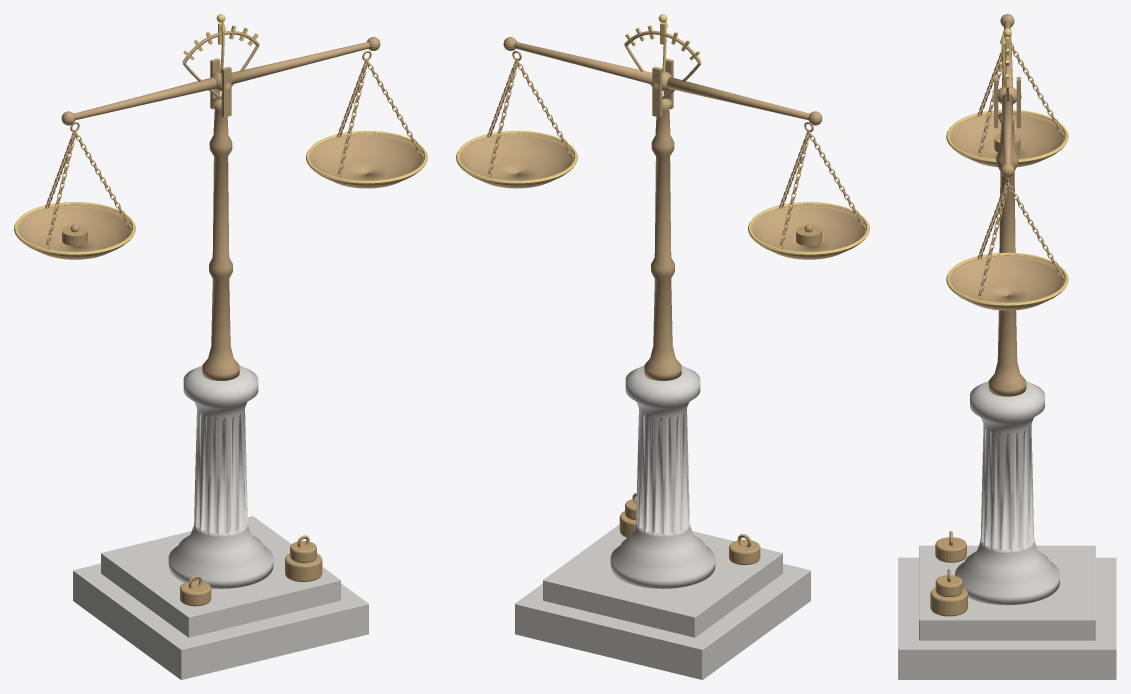
The model's file is obj_kit_scales.glb.
3 renders of one model, left to right at view 1: azimuth 30°, elevation 25°; view 2: azimuth 150°, elevation 25°; view 3: azimuth 270°, elevation 25°, orthographic.
Parts seen in each view (by area): view 1: pedestal, Cube, Cube.001, column, pan.001, pan, beamL, beamR, Torus.072, Torus.002, Cylinder.004, Cylinder.006; view 2: pedestal, Cube, Cube.001, column, pan.001, pan, beamL, beamR, Torus.072, Torus.002, Cylinder.006; view 3: pedestal, Cube, Cube.001, pan.001, column, pan, Torus.072, Torus.002, Cylinder.004, Cylinder.006, beamR, Cylinder.005 (+3 smaller).
Part boxes in pixels (box(x1,y1,x2,y2)): pedestal: box(168, 365, 273, 588); Cube: box(73, 563, 368, 679); Cube.001: box(101, 516, 340, 637); column: box(202, 98, 239, 380); pan.001: box(309, 133, 423, 188); pan: box(17, 205, 131, 259); beamL: box(74, 77, 216, 120); beamR: box(231, 42, 369, 84); Torus.072: box(306, 130, 427, 184); Torus.002: box(14, 202, 135, 255); Cylinder.004: box(285, 553, 322, 581); Cylinder.006: box(180, 581, 211, 606); pedestal: box(610, 365, 715, 588); Cube: box(515, 563, 810, 679); Cube.001: box(543, 524, 782, 637); column: box(644, 98, 681, 380); pan.001: box(459, 133, 574, 188); pan: box(751, 205, 866, 259); beamL: box(667, 77, 809, 120); beamR: box(514, 42, 652, 84); Torus.072: box(456, 130, 577, 184); Torus.002: box(748, 202, 869, 255); Cylinder.006: box(729, 539, 760, 564); pedestal: box(955, 381, 1059, 605); Cube: box(898, 557, 1116, 679); Cube.001: box(919, 545, 1095, 640); pan.001: box(950, 255, 1064, 310); column: box(988, 113, 1026, 396); pan: box(950, 112, 1064, 166); Torus.072: box(946, 252, 1068, 306); Torus.002: box(946, 110, 1068, 162); Cylinder.004: box(930, 587, 967, 616); Cylinder.006: box(935, 537, 966, 562); beamR: box(1001, 94, 1013, 163); Cylinder.005: box(935, 575, 962, 596).
Bounding box in the file's own units: 1.23 × 1.78 × 0.58.
